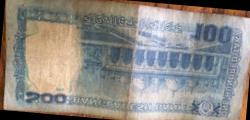100 taka: (8, 1, 241, 120)
